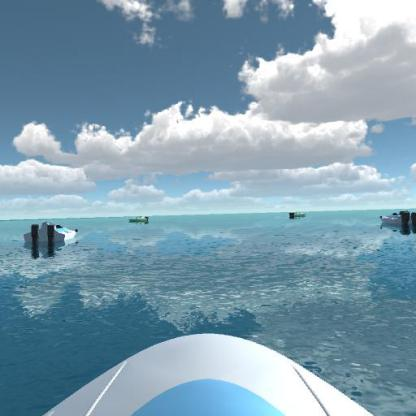usv0: (127, 211, 152, 228), (284, 205, 307, 223)
usv1: (18, 218, 82, 254), (377, 206, 415, 236)
